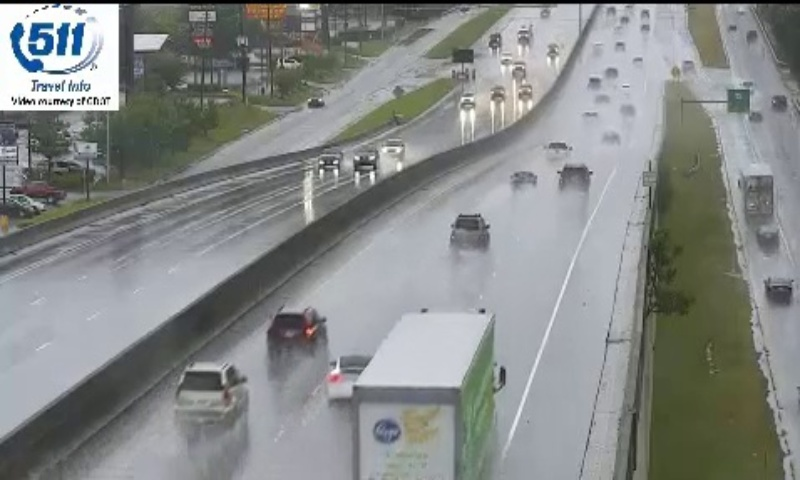car: (175, 361, 247, 422), (267, 306, 324, 354), (326, 356, 371, 401), (450, 215, 488, 251), (558, 163, 590, 194)
small-truck: (353, 312, 493, 480)
